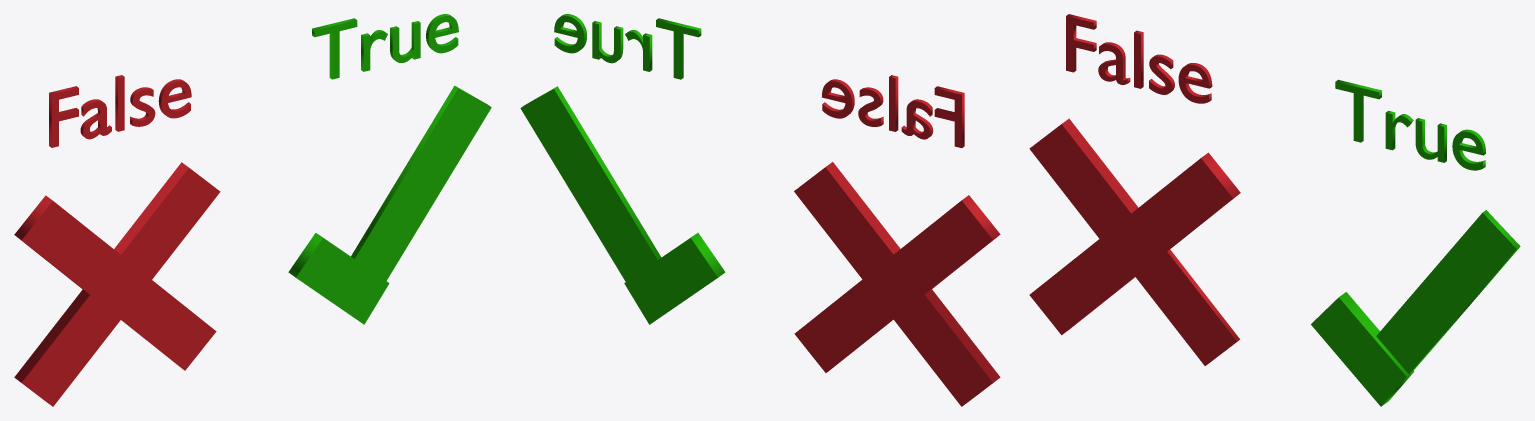
File: Boolean.fbx
3 renders of one model, left to right at view 1: azimuth 30°, elevation 25°; view 2: azimuth 150°, elevation 25°; view 3: azimuth 330°, elevation 25°, orthographic. The views are drawn at different scales.
Visible parts, largest first — view 1: Curve.004, Curve.002, Text.001, Text; view 2: Curve.004, Curve.002, Text.001, Text; view 3: Curve.004, Curve.002, Text.001, Text.
Part boxes in pixels (<box>): Curve.004: <box>14,162,220,406</box>; Curve.002: <box>288,85,491,324</box>; Text.001: <box>49,75,191,147</box>; Text: <box>312,14,458,79</box>; Curve.004: <box>794,162,1000,406</box>; Curve.002: <box>520,86,725,324</box>; Text.001: <box>821,75,964,147</box>; Text: <box>554,14,701,79</box>; Curve.004: <box>1029,118,1240,365</box>; Curve.002: <box>1311,210,1520,406</box>; Text.001: <box>1066,14,1212,103</box>; Text: <box>1335,79,1485,170</box>.
Size of the model in its own units: 123 by 76.94 by 3.43.
